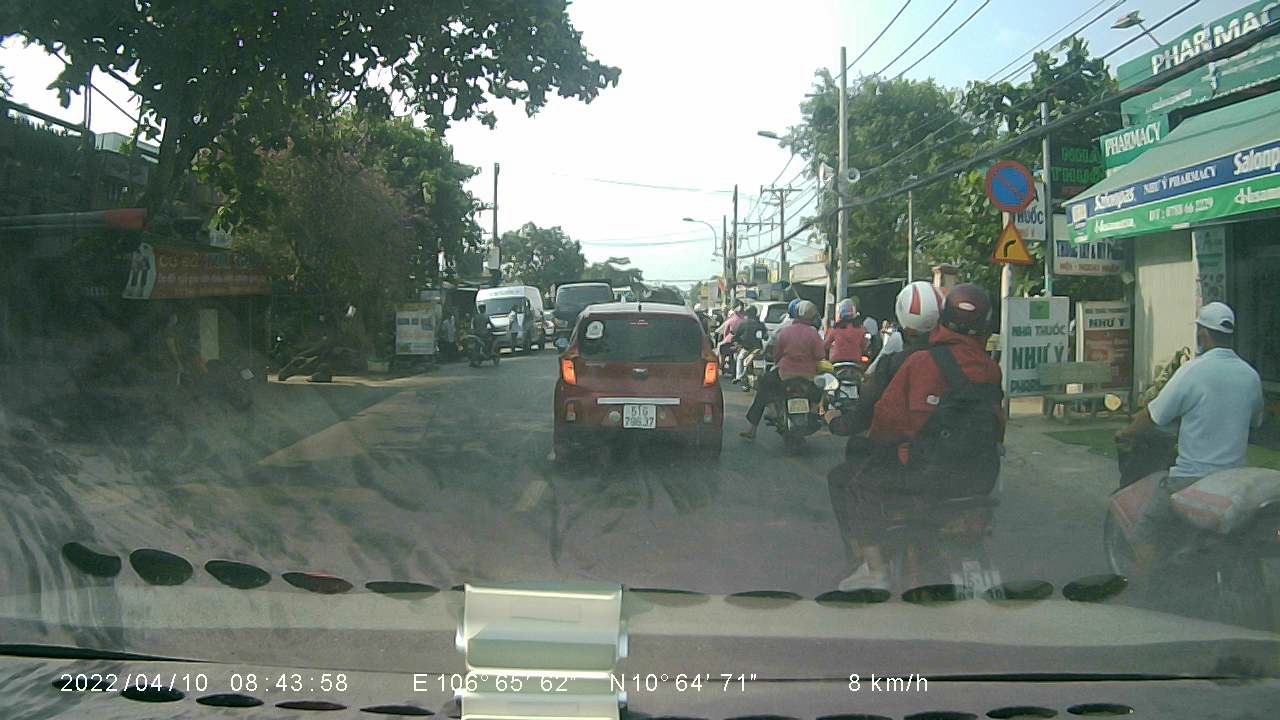Bien khac: (987, 217, 1036, 266)
Cam do xe: (979, 155, 1034, 215)
